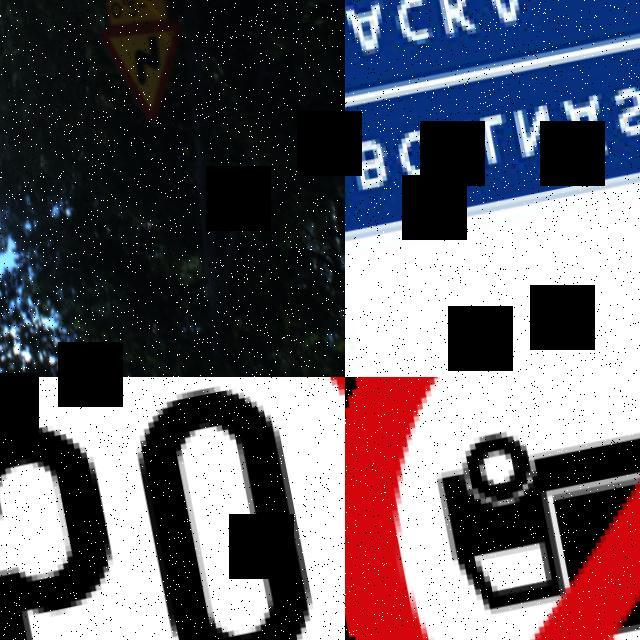121: (345, 0, 640, 377)
139: (94, 4, 206, 140)
181: (95, 0, 174, 35)
No entry for Trucks: (345, 377, 640, 640)
speed limit-50: (0, 377, 345, 640)
